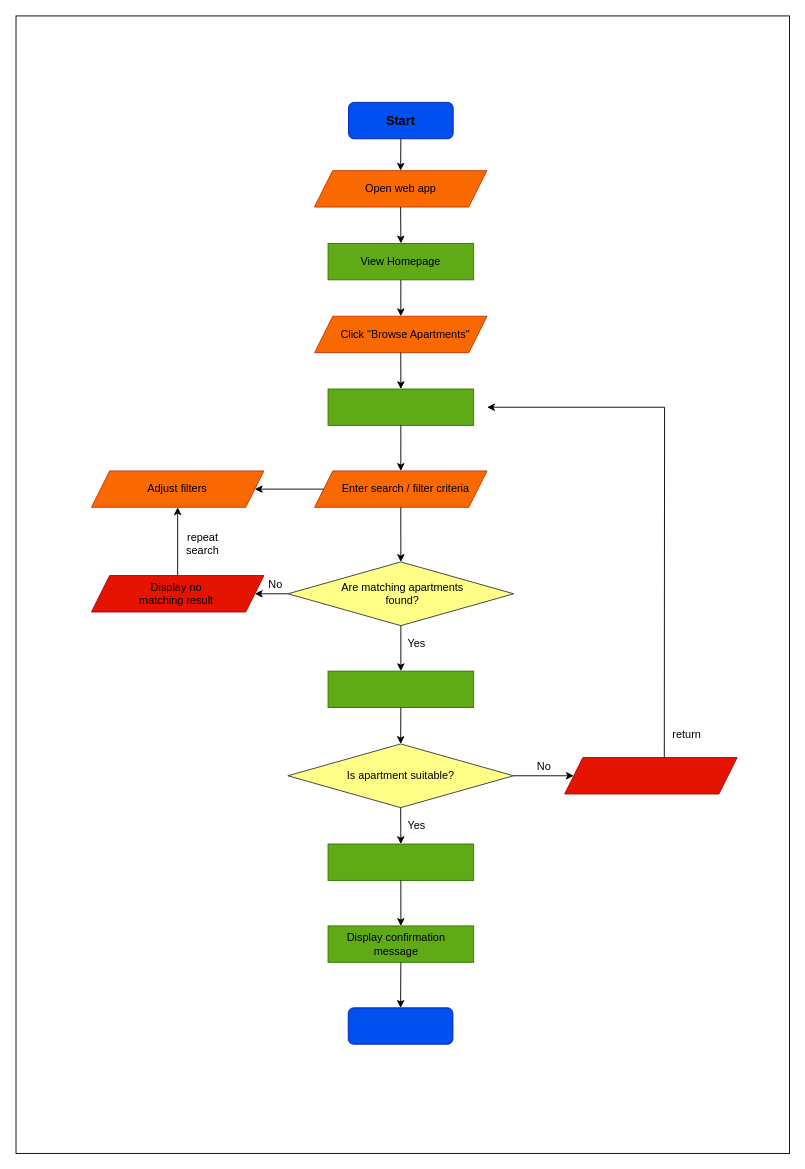
Some shapes in this 805 by 1169 pixel diagram are drawn without their labels. Each missing label, with the centre of its shape:
End: point (400, 1025)
Go back to listings: point (650, 775)
Shortlist apartment or contact owner: point (400, 861)
View apartment details: point (400, 689)
View apartment listings: point (400, 406)
